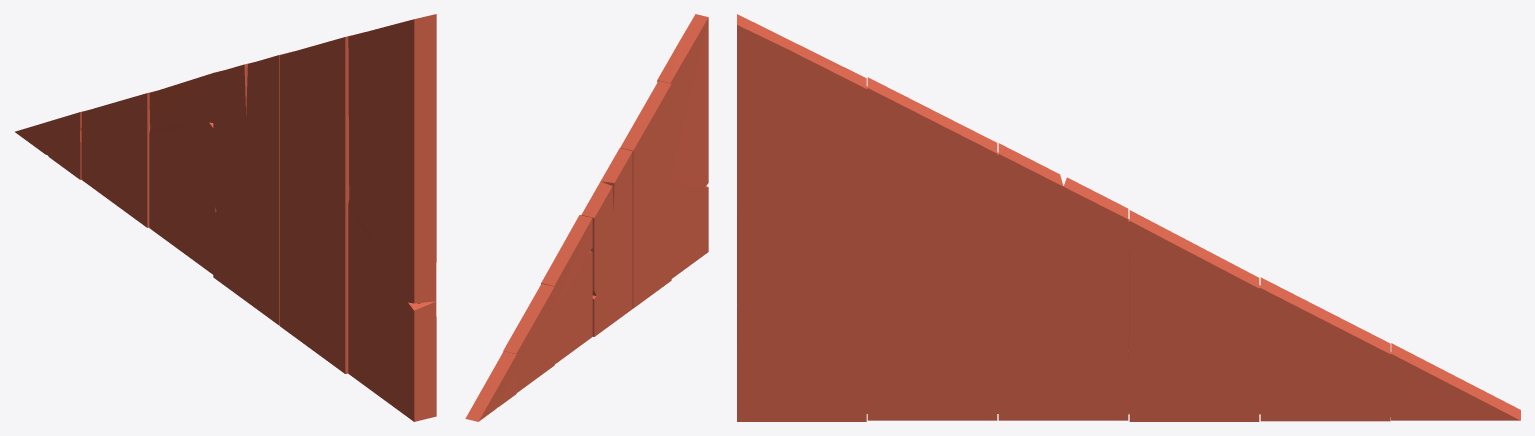
Rendered from RoofAux.fbx.
The picture shows the model from 3 angles, left to right: view 1: azimuth 30°, elevation 25°; view 2: azimuth 150°, elevation 25°; view 3: azimuth 270°, elevation 25°; orthographic projection. The views are drawn at different scales.
Visible parts, largest first — view 1: Door_02.003; view 2: Door_02.003; view 3: Door_02.003.
Boxes of the visible parts, box(x1,y1,x2,y2) form: Door_02.003: box(15, 14, 436, 421); Door_02.003: box(465, 14, 708, 421); Door_02.003: box(737, 14, 1520, 421).
Bounding box in the file's own units: 6.2 × 95.12 × 170.
